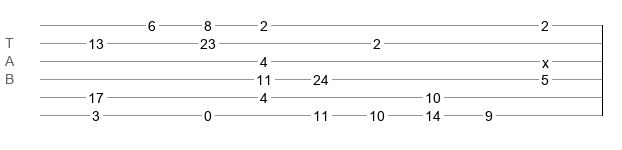0: (204, 108, 212, 118)
10: (369, 108, 385, 118), (425, 90, 441, 100)
11: (256, 72, 272, 82), (313, 108, 329, 118)
13: (88, 36, 104, 46)
14: (425, 108, 441, 118)
17: (88, 90, 104, 100)
2: (260, 18, 268, 28), (373, 36, 381, 46), (541, 18, 549, 28)
23: (200, 36, 216, 46)
24: (313, 72, 329, 82)
3: (92, 108, 100, 118)
4: (260, 90, 268, 100), (260, 54, 268, 64)
5: (541, 72, 549, 82)
6: (148, 18, 156, 28)
8: (204, 18, 212, 28)
9: (485, 108, 493, 118)
x: (542, 55, 549, 63)
